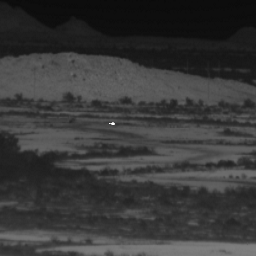Target: (108, 121, 116, 126)
